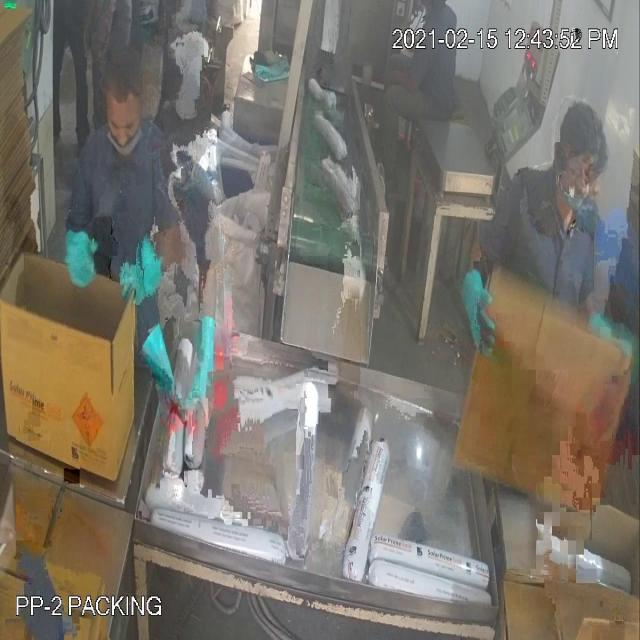Gloves: (40, 55, 478, 310)
